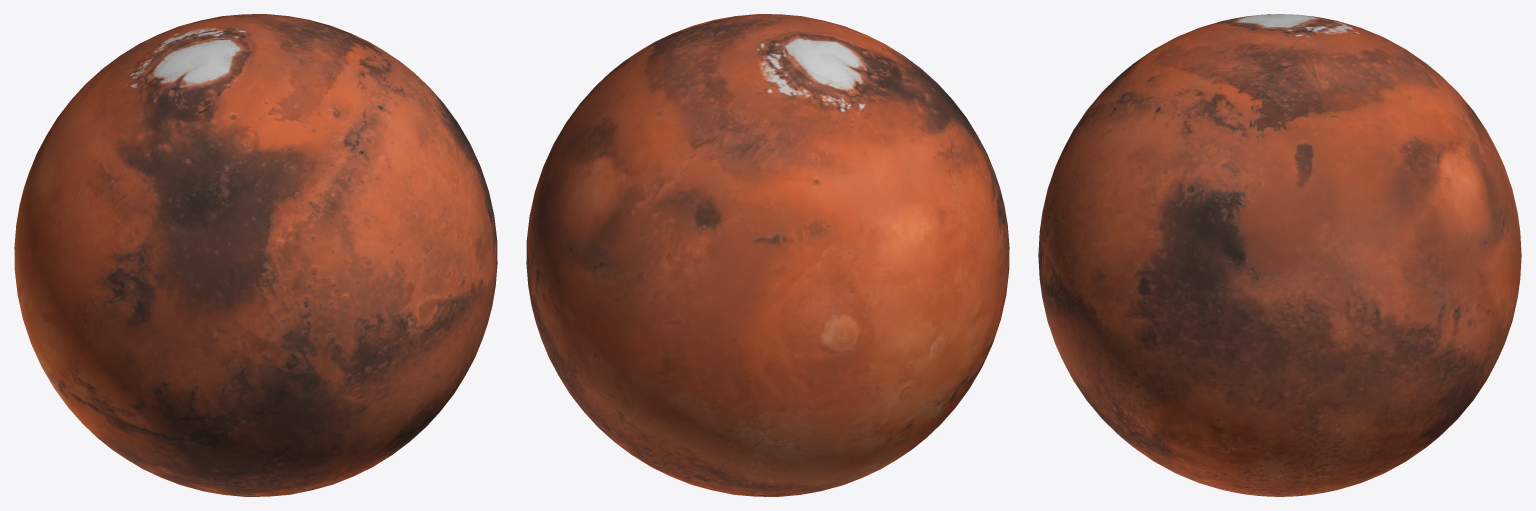
File: mars-optimized2.glb
The picture shows the model from 3 angles, left to right: view 1: azimuth 30°, elevation 25°; view 2: azimuth 150°, elevation 25°; view 3: azimuth 270°, elevation 25°; orthographic projection.
Parts seen in each view (by area): view 1: mars; view 2: mars; view 3: mars.
Boxes of the visible parts, box(x1,y1,x2,y2) form: mars: box(14, 14, 497, 496); mars: box(526, 14, 1009, 496); mars: box(1038, 14, 1521, 496).
Bounding box in the file's own units: 99.86 × 99.95 × 100.
Materials: 1 (1 with a texture image).
